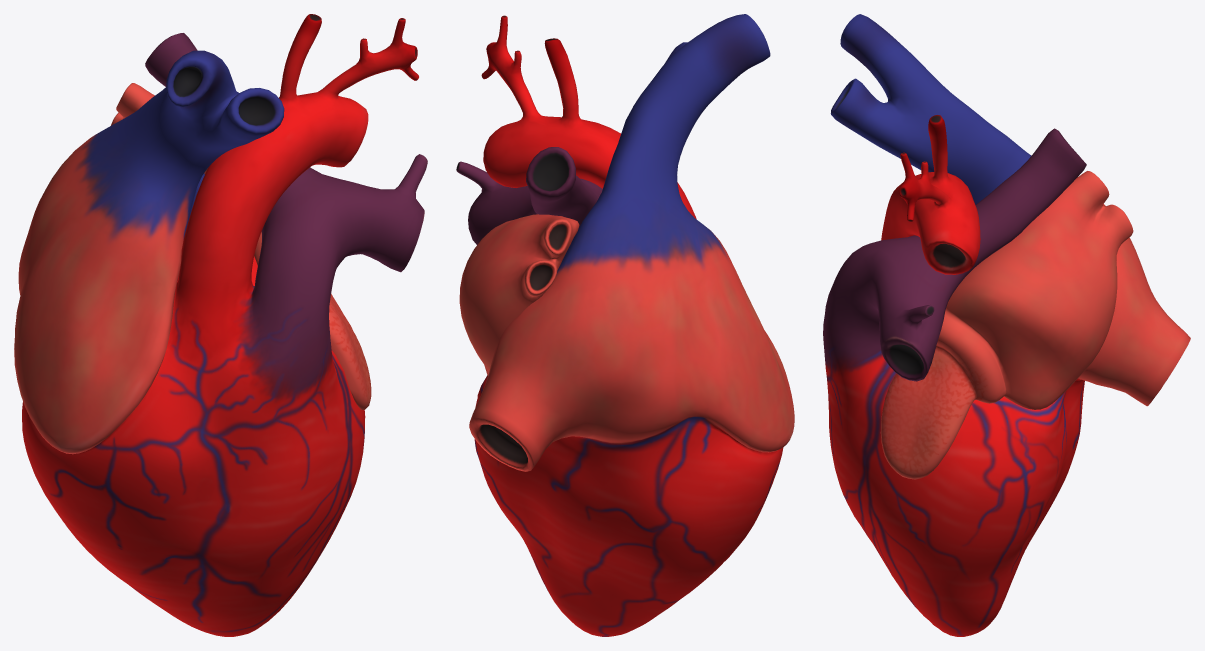
File: humanheart.gltf
3 renders of one model, left to right at view 1: azimuth 30°, elevation 25°; view 2: azimuth 150°, elevation 25°; view 3: azimuth 270°, elevation 25°, orthographic. The views are drawn at different scales.
Parts seen in each view (by area): view 1: node_id30; view 2: node_id30; view 3: node_id30.
Part boxes in pixels (bbox=[...]): node_id30: bbox=[14, 14, 427, 636]; node_id30: bbox=[456, 14, 794, 636]; node_id30: bbox=[823, 14, 1190, 636].
Bounding box in the file's own units: 0.3058 × 0.512 × 0.297.
Materials: 1 (1 with a texture image).
